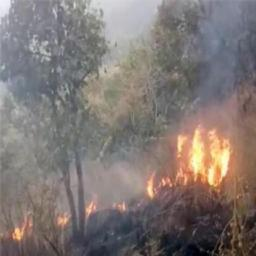Low smoke: (0, 0, 254, 211)
Small fire: (5, 106, 242, 248)
